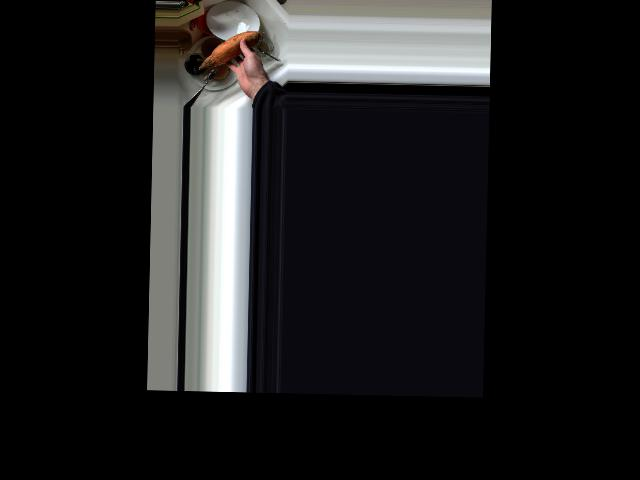sweet_potato: (200, 28, 261, 73)
